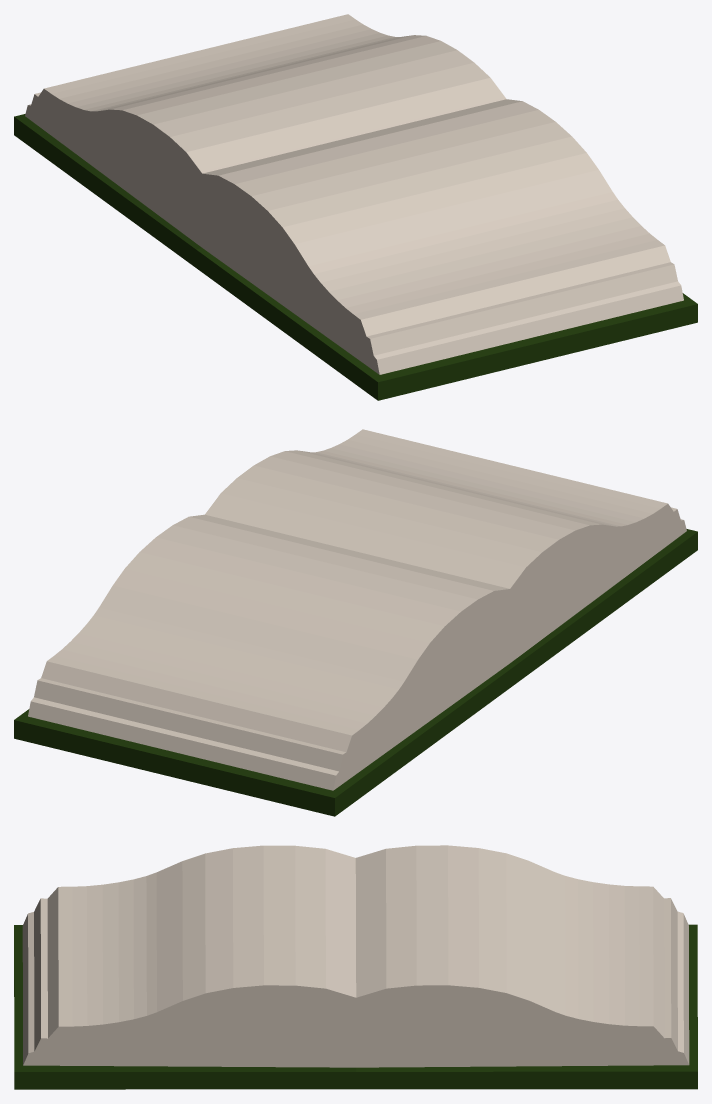
The model's file is Libro.fbx.
The picture shows the model from 3 angles, top to bottom: view 1: azimuth 30°, elevation 25°; view 2: azimuth 150°, elevation 25°; view 3: azimuth 270°, elevation 25°; orthographic projection. The views are drawn at different scales.
Parts seen in each view (by area): view 1: Libro; view 2: Libro; view 3: Libro.
Part boxes in pixels (left/top/right/bottom): Libro: left=14, top=14, right=697, bottom=400; Libro: left=14, top=429, right=697, bottom=816; Libro: left=14, top=845, right=697, bottom=1089.
Bounding box in the file's own units: 2043 × 645 × 4007.
